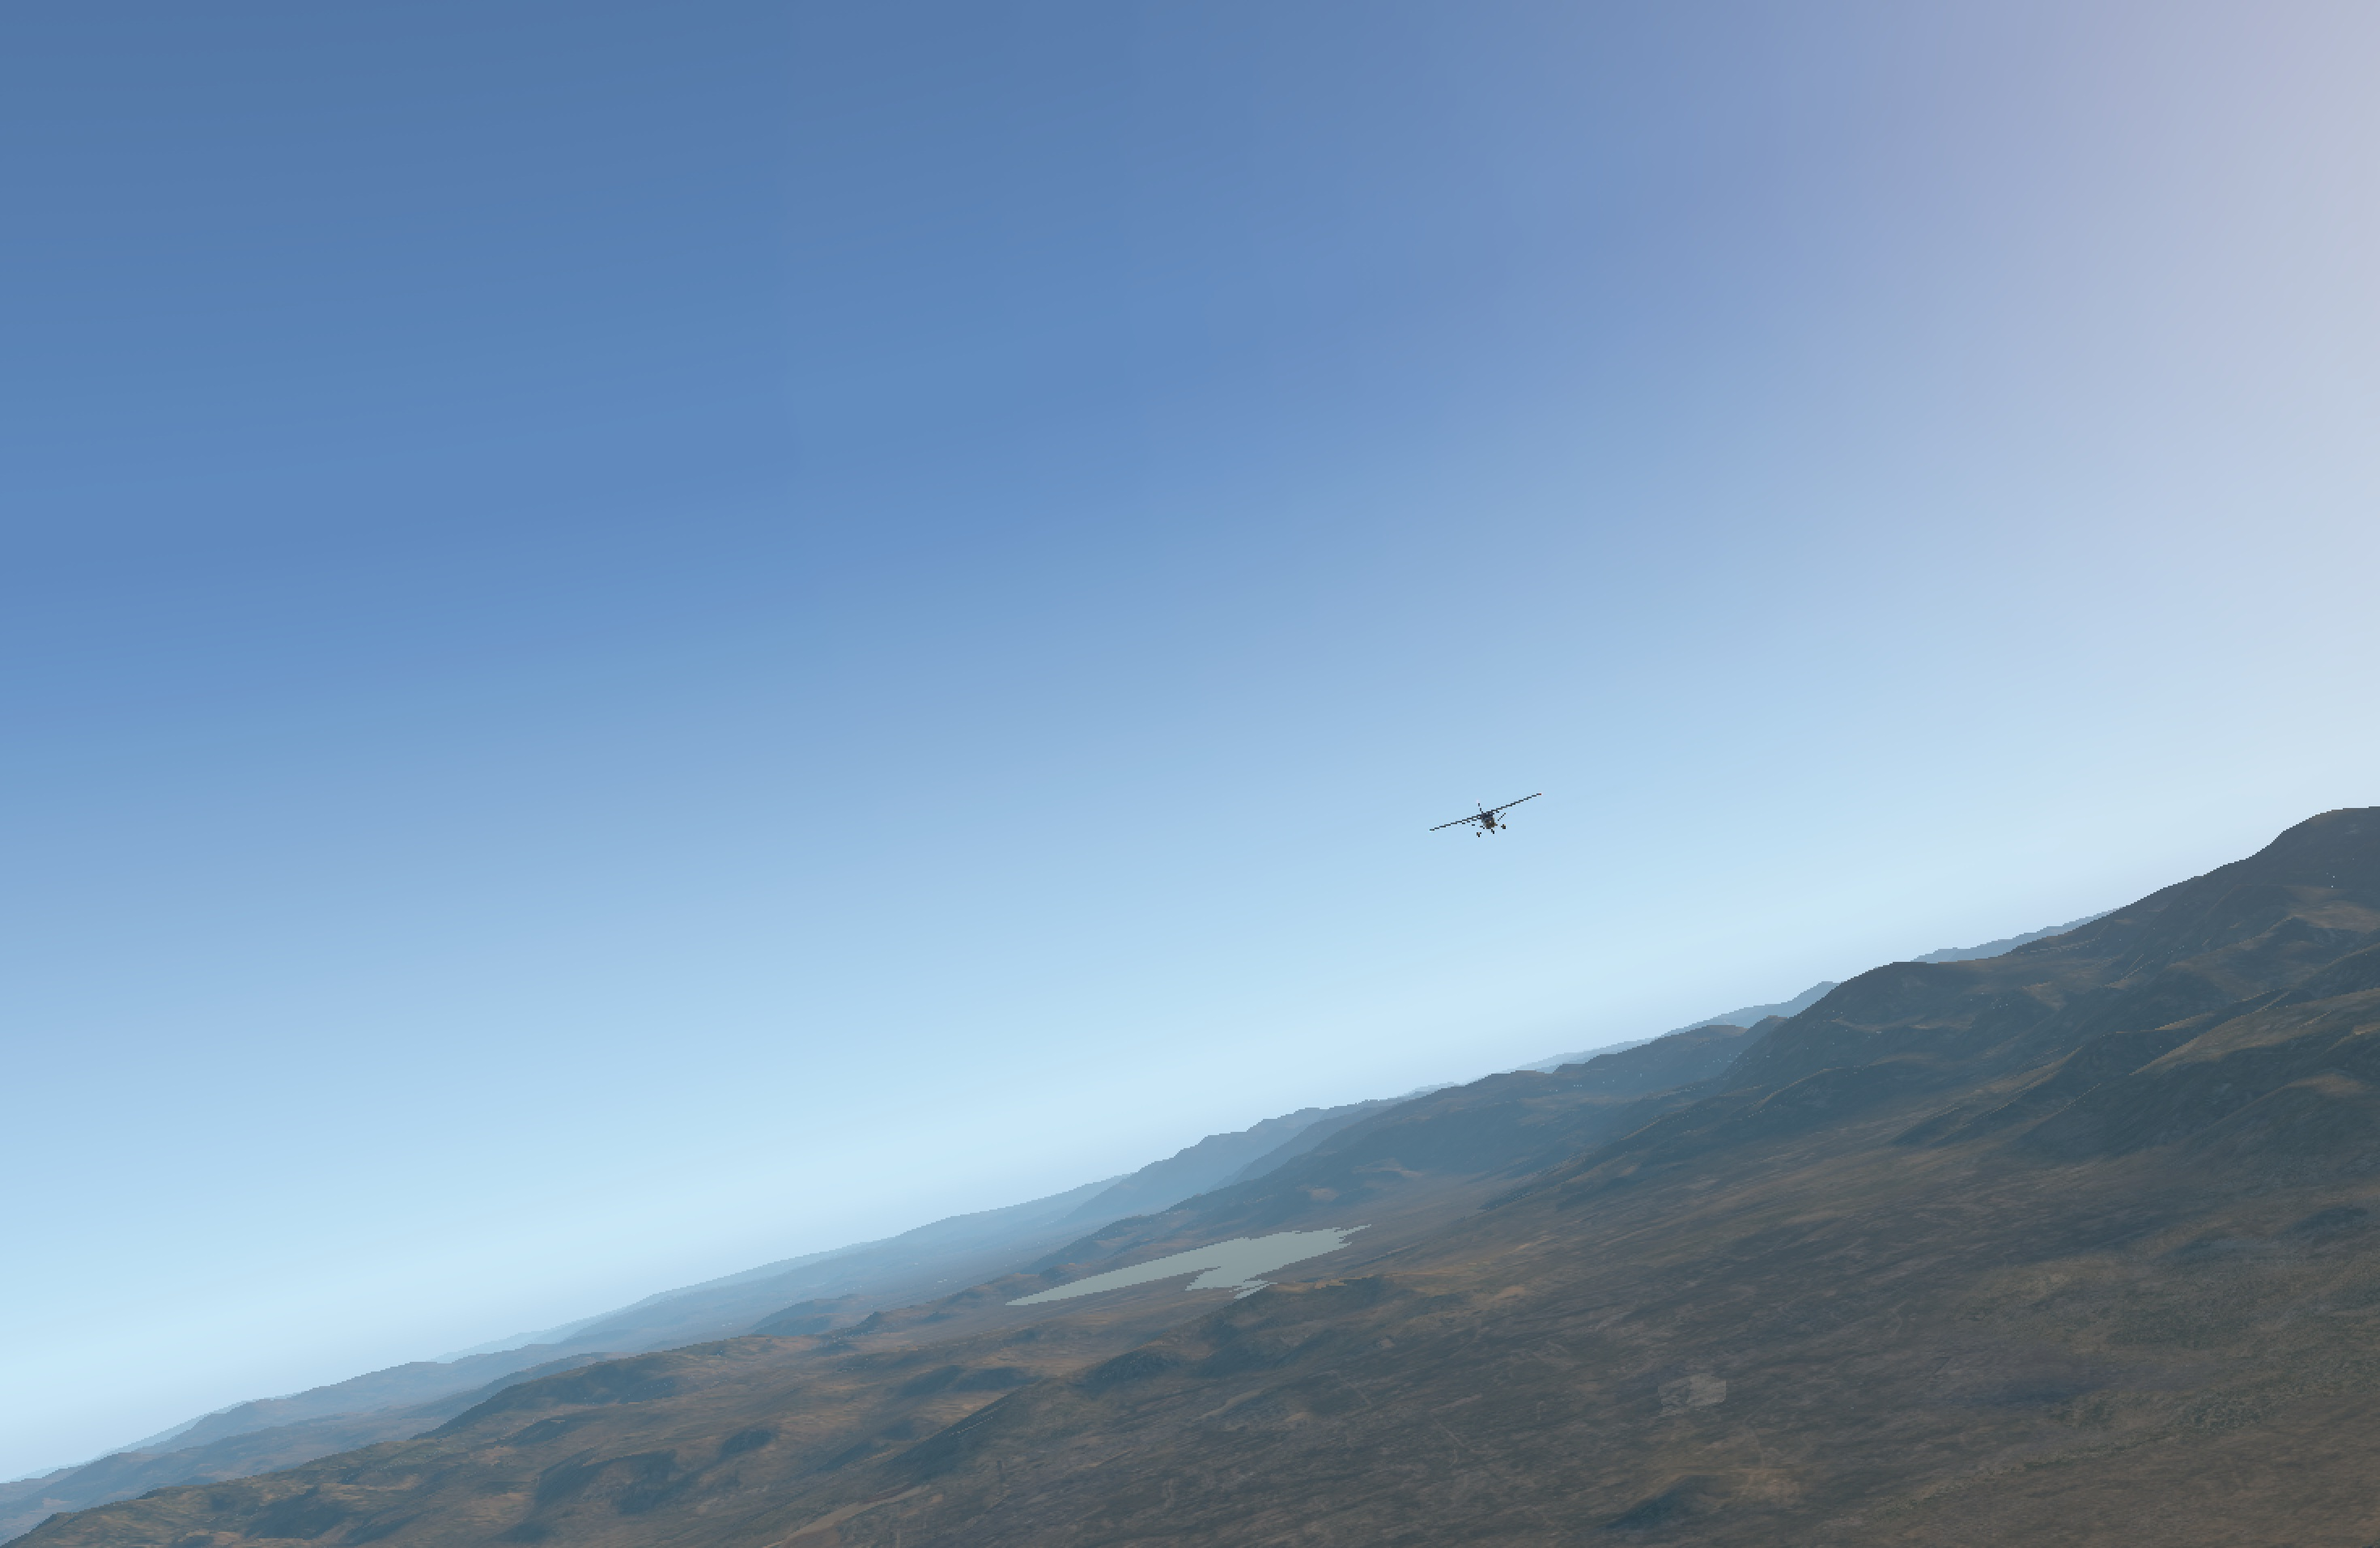aircraft: (1445, 804, 1530, 835)
